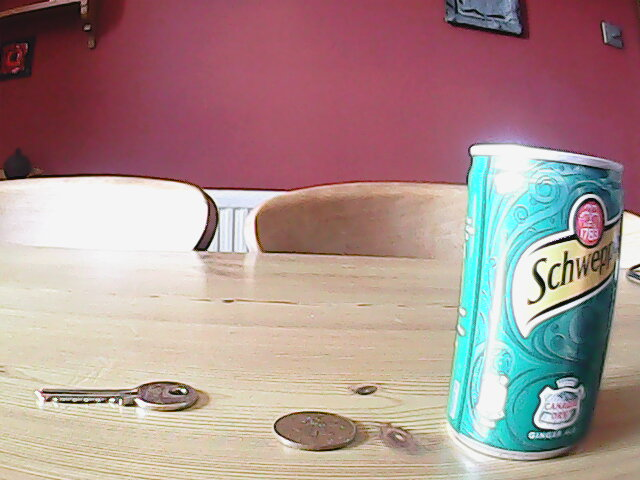Can: (443, 138, 626, 467)
Coin: (270, 408, 360, 455)
Key: (27, 382, 200, 414)
